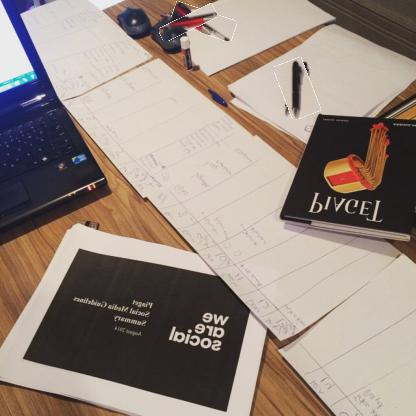Pen: (278, 58, 316, 119), (170, 6, 236, 37), (158, 9, 218, 36)
